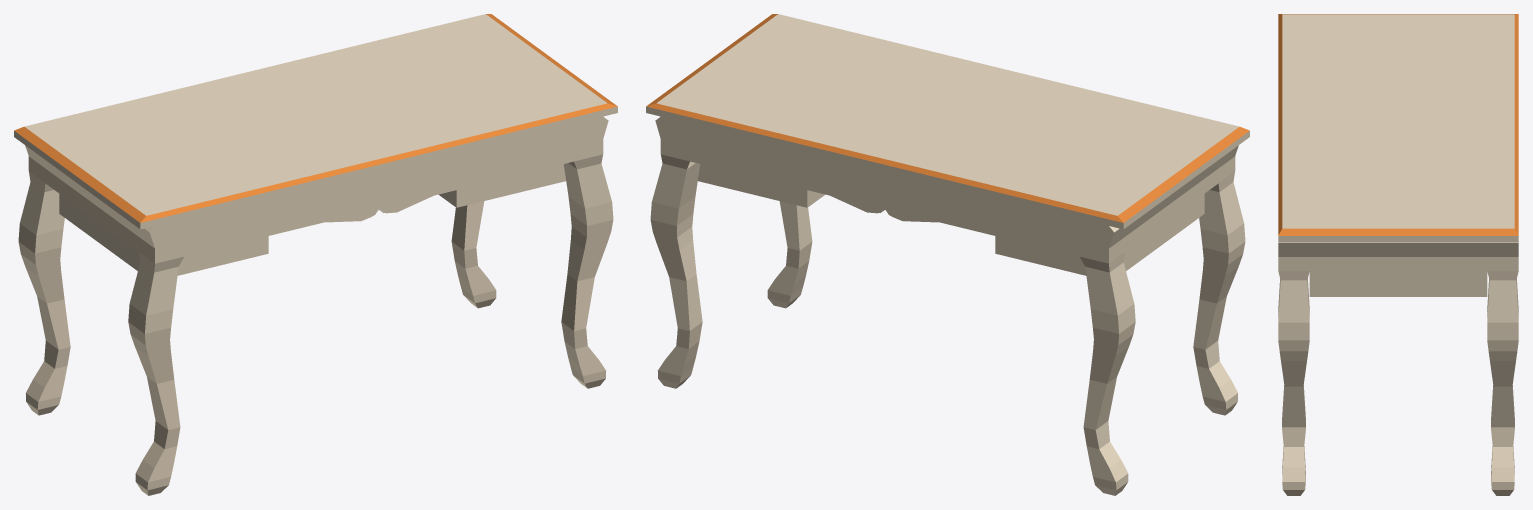
File: desk.fbx
The picture shows the model from 3 angles, left to right: view 1: azimuth 30°, elevation 25°; view 2: azimuth 150°, elevation 25°; view 3: azimuth 270°, elevation 25°; orthographic projection. The views are drawn at different scales.
Parts seen in each view (by area): view 1: Cube; view 2: Cube; view 3: Cube.
Part boxes in pixels (x1,y1,x2,y2): Cube: [14, 14, 617, 495]; Cube: [646, 14, 1249, 495]; Cube: [1278, 14, 1518, 495].
Bounding box in the file's own units: 858 × 486 × 393.
